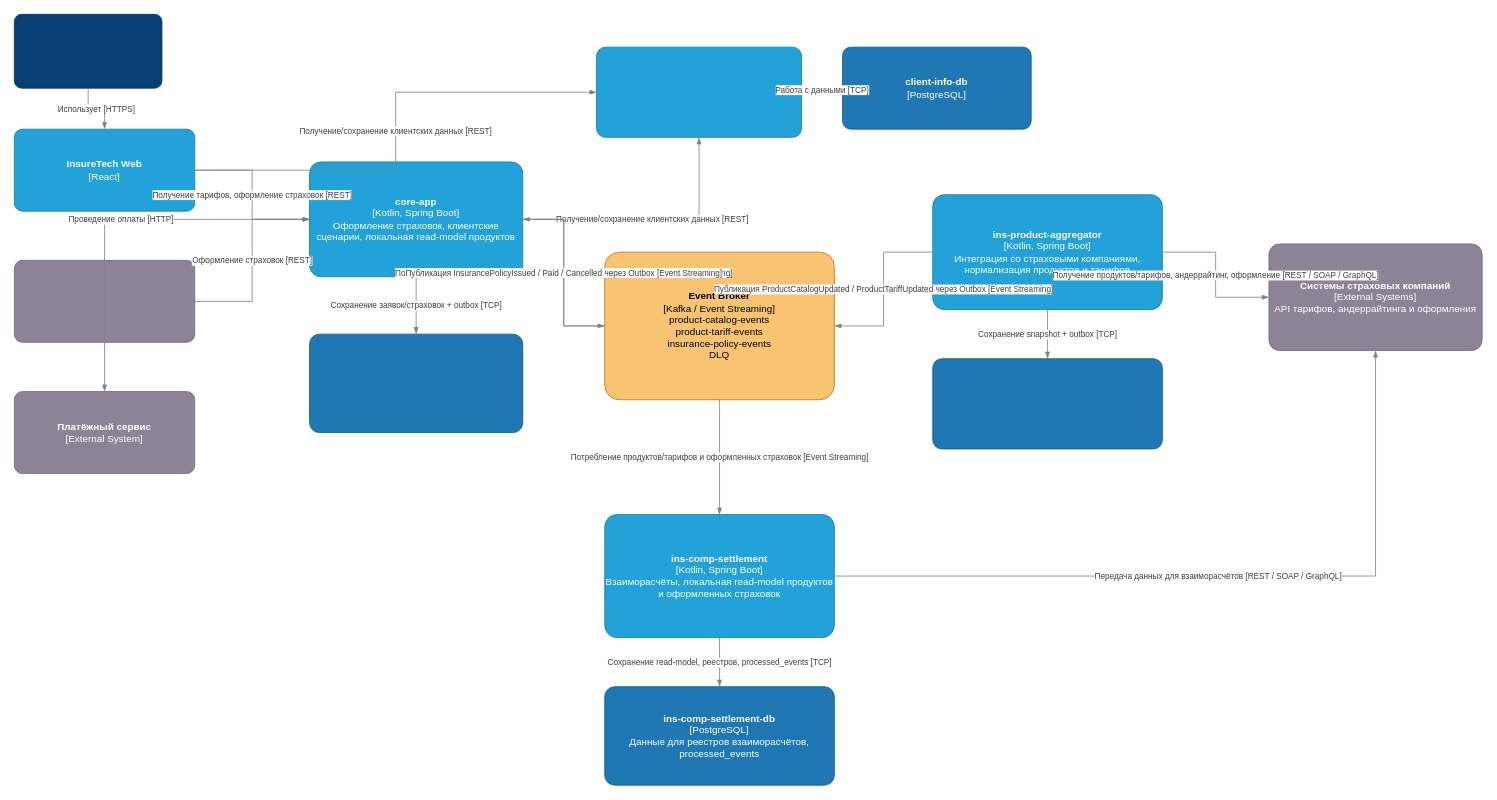
The diagram is 1497 pixels wide and 800 high, and some of its shapes have lost their labels. The centre of each missing label's shape, as x and y in pixels:
client-info [Kotlin, Spring Boot] Клиентские данные: point 699,91
core-db [PostgreSQL] Заявки, страховки, локальная реплика продуктов, outbox: point 416,383
ins-product-aggregator-db [PostgreSQL] Snapshot продуктов/тарифов, outbox: point 1047,403
Клиент [Person]: point 88,51
Системы партнёров [External Systems]: point 104,301
